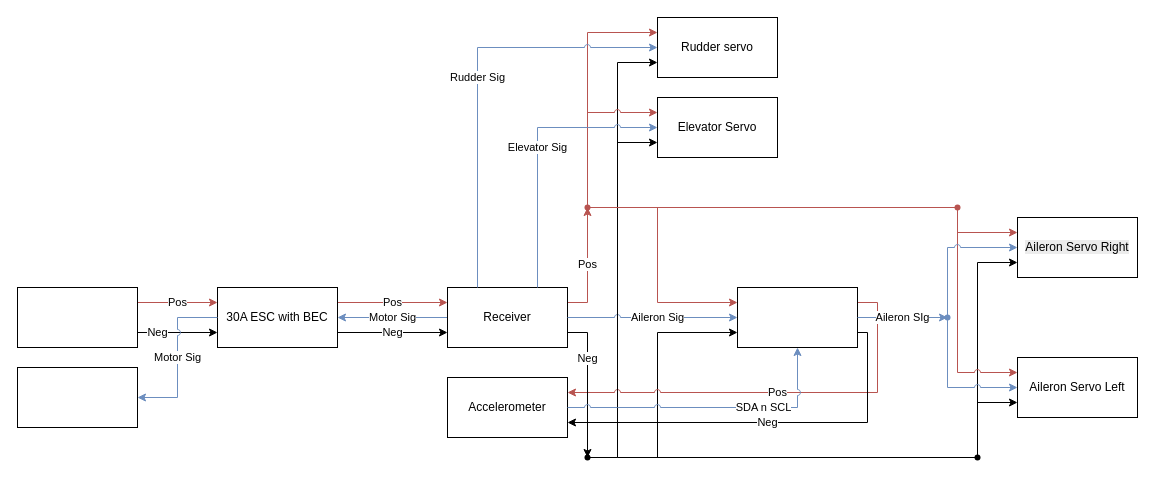
Some shapes in this 1155 by 485 pixel diagram are drawn without their labels. The centre of each missing label's shape, as x and y in pixels:
"3s LiP o Battery" belongs at point 77,317.
"Arduino Nano" belongs at point 797,317.
"Motor" belongs at point 77,397.
